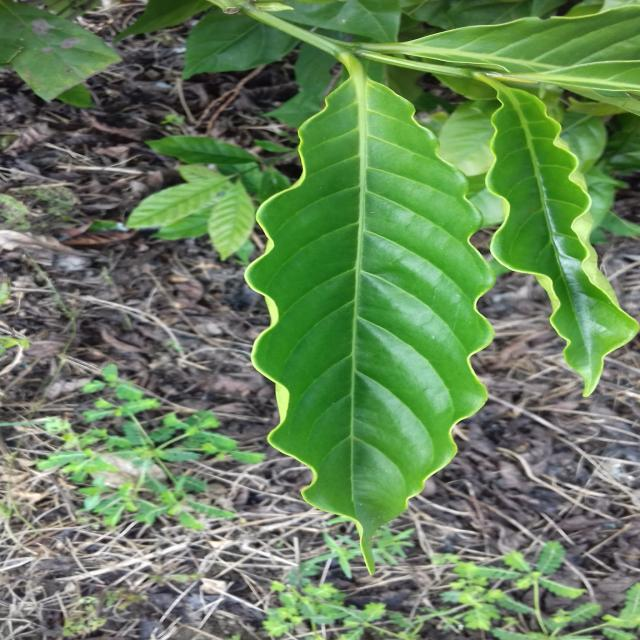Sanas: (242, 75, 508, 560)
